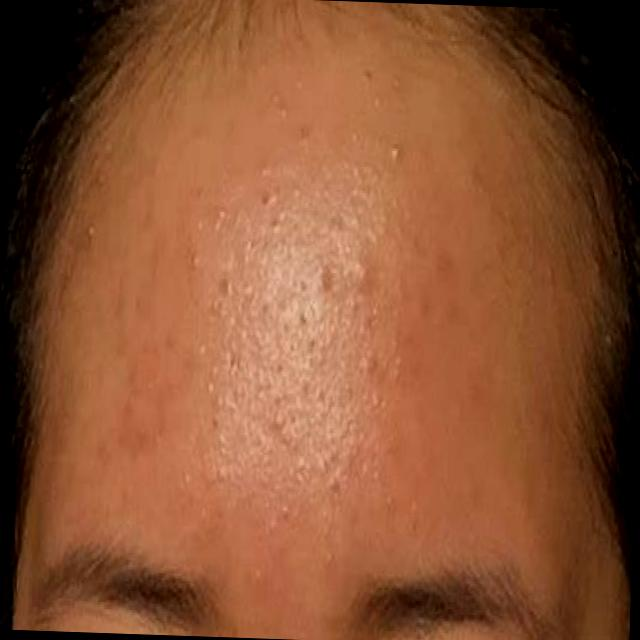fungal: (174, 101, 419, 552)
